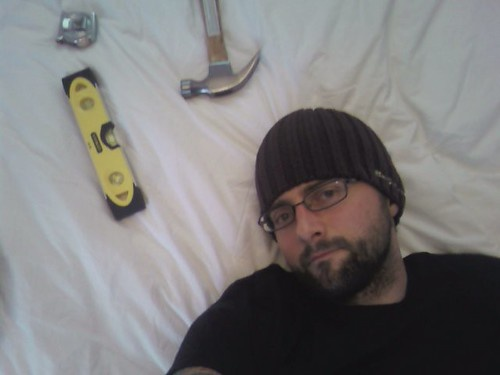hammer: (178, 1, 264, 102)
